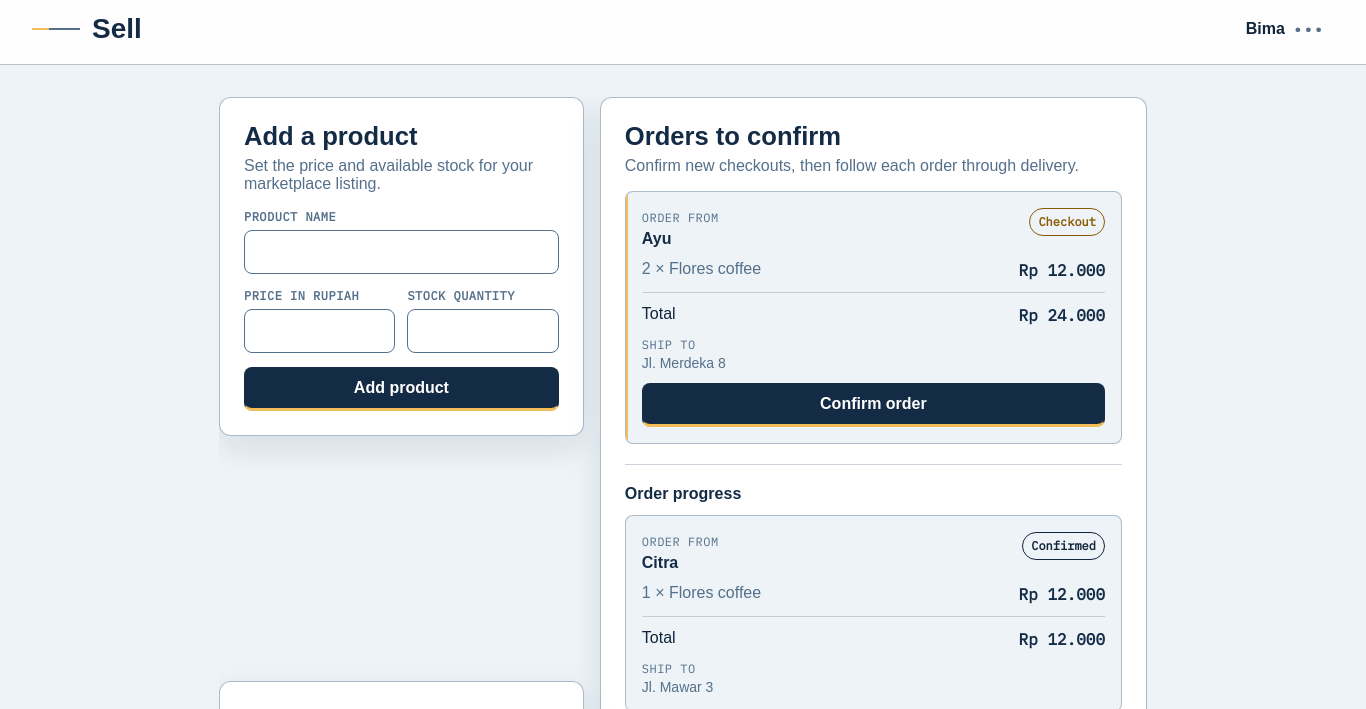
Test: Seller › ignores an older product success after a newer refresh publishes products
Type "First listing" into the field labelled "Product name". click: {"x": 401, "y": 252}
box: 244,230 -> 559,274
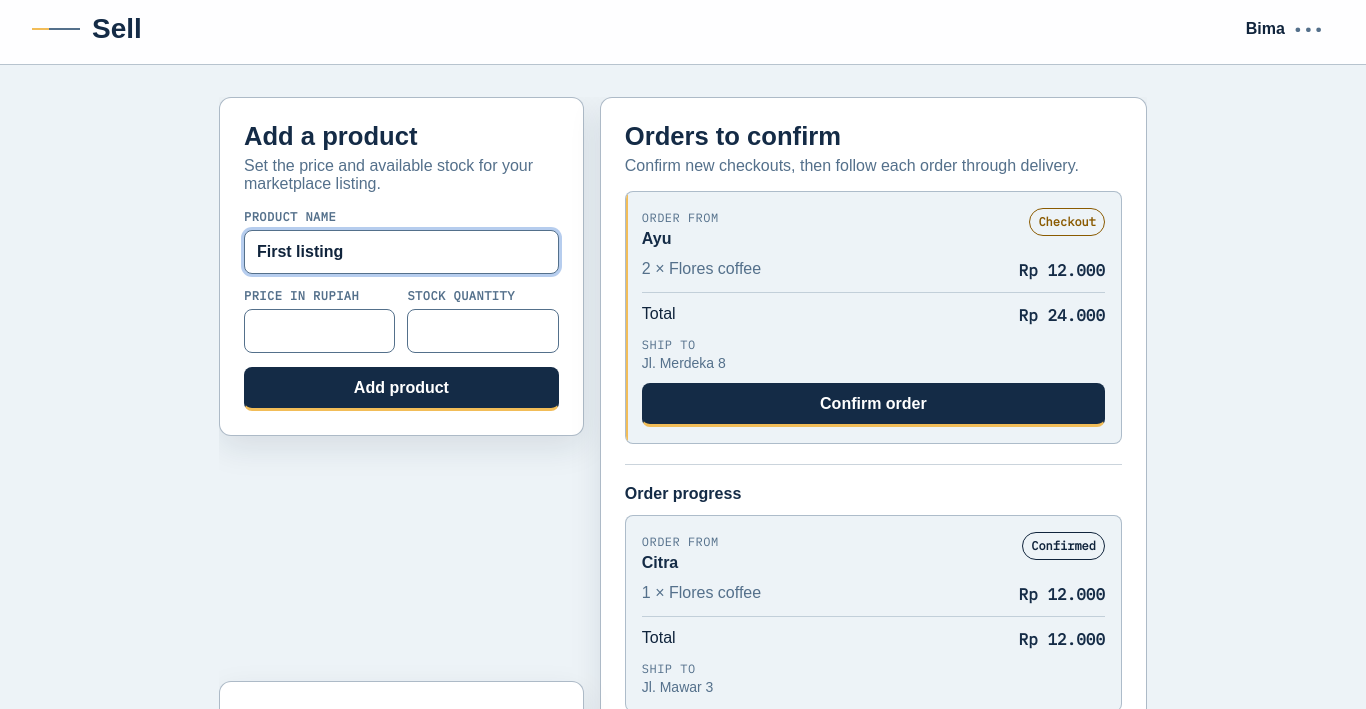
Type "18000" into the number field labelled "Price in rupiah". click: {"x": 320, "y": 331}
box: 244,309 -> 395,353
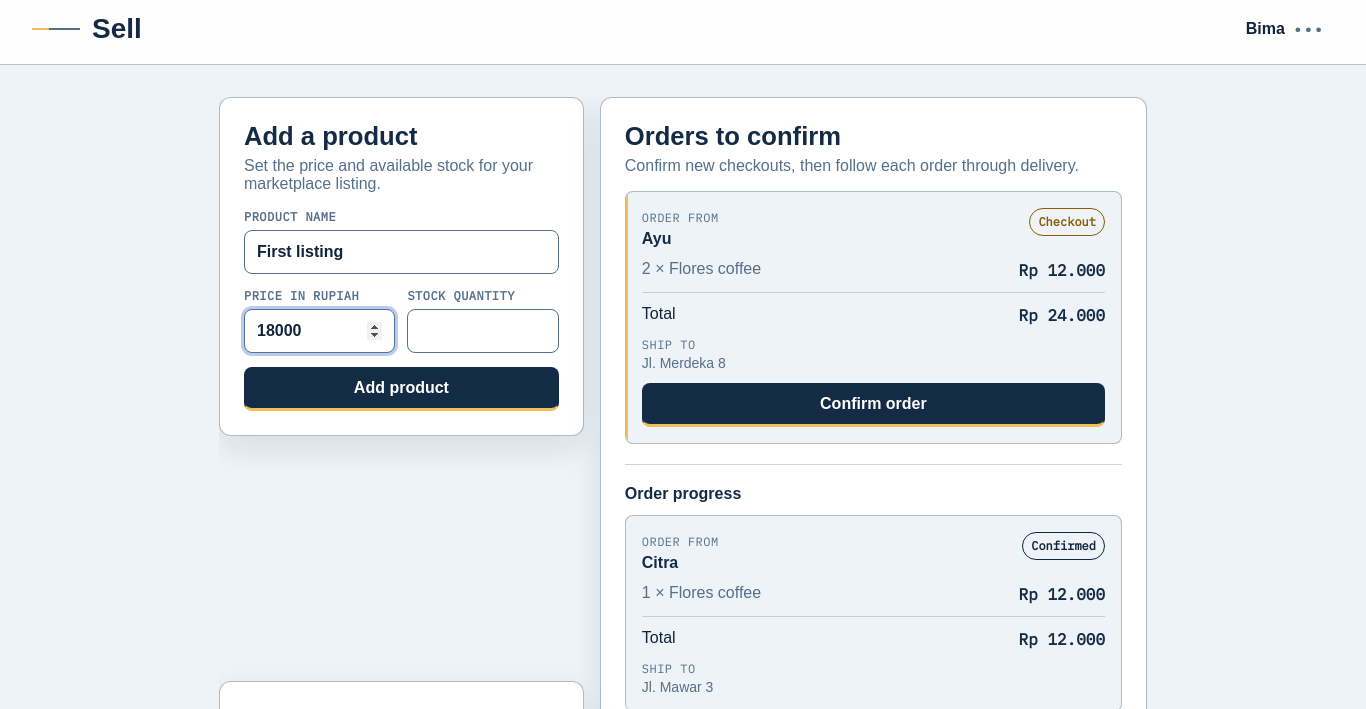
Click the button "Add product". click: {"x": 401, "y": 389}
box: 244,367 -> 559,411
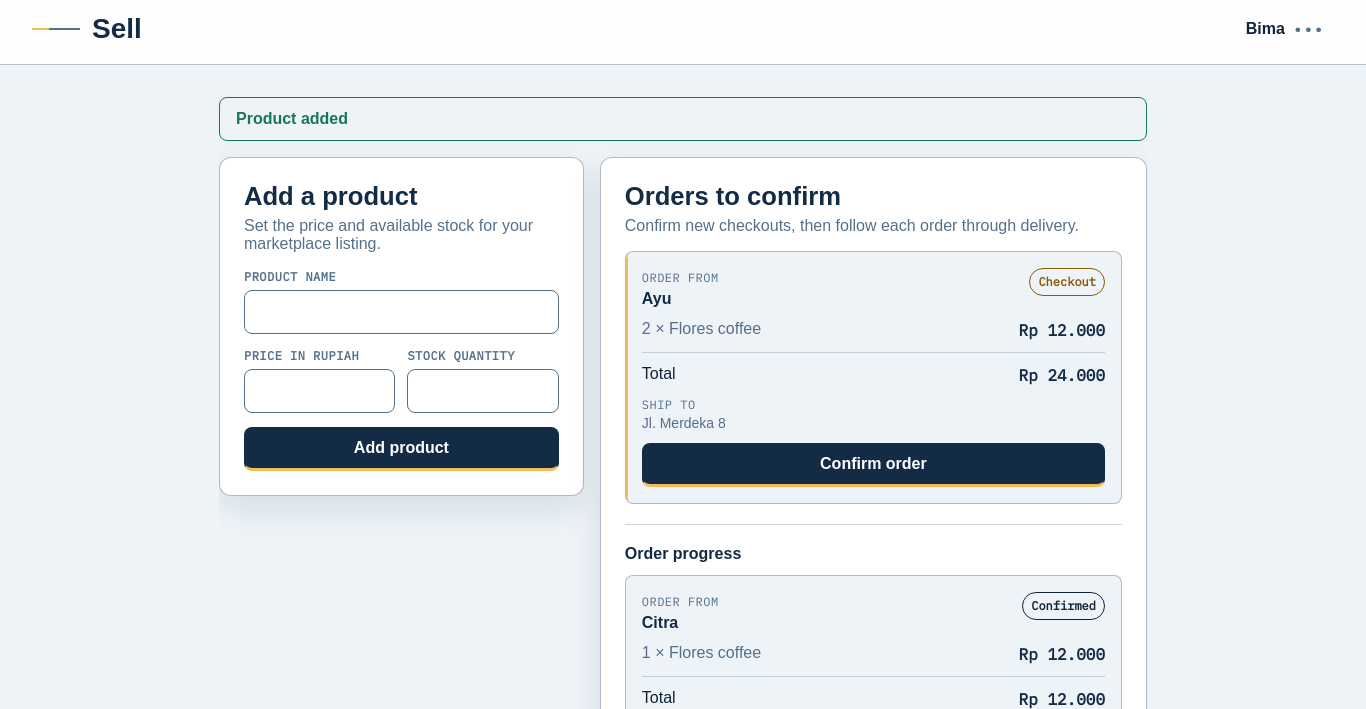
Type "Second listing" into the field labelled "Product name". click: {"x": 401, "y": 312}
box: 244,290 -> 559,334
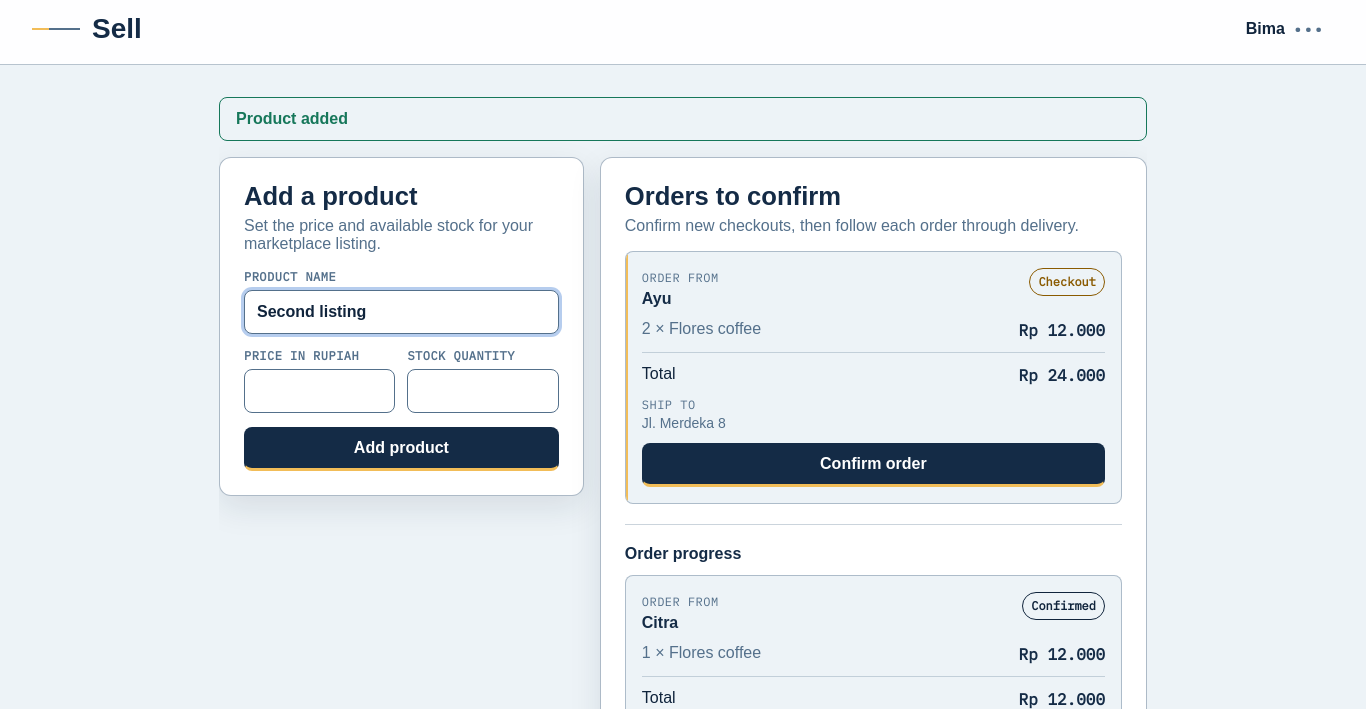
Type "19000" into the number field labelled "Price in rupiah". click: {"x": 320, "y": 391}
box: 244,369 -> 395,413
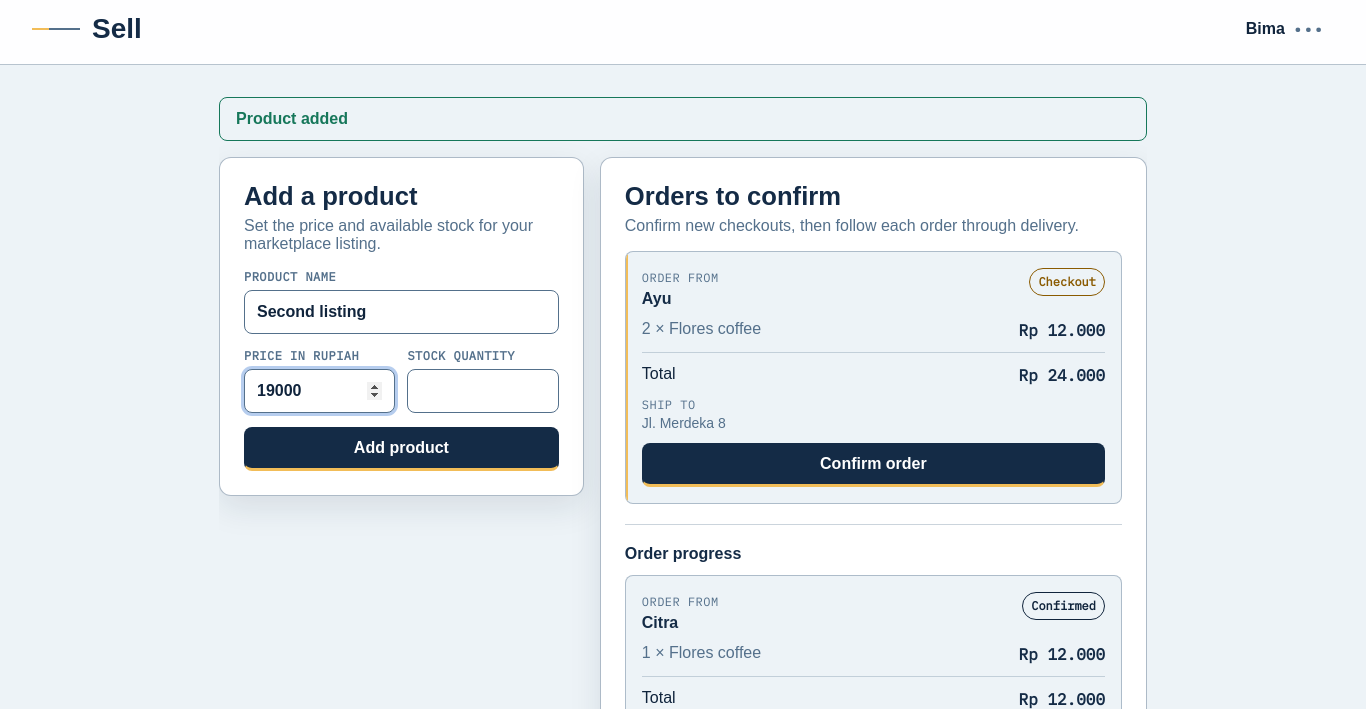
Click the button "Add product". click: {"x": 401, "y": 449}
box: 244,427 -> 559,471
(page scrolled)
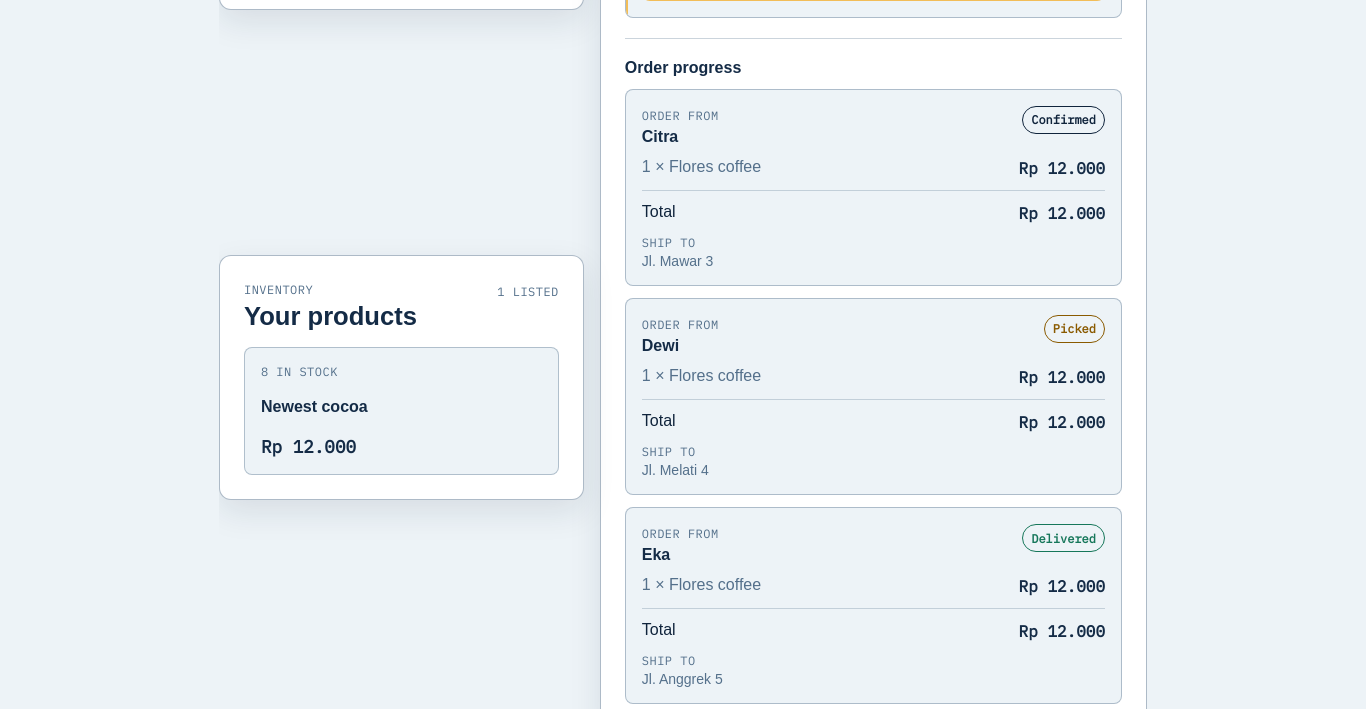
Check: the heading "Newest cocoa" is shown, box 261,398 -> 368,415
